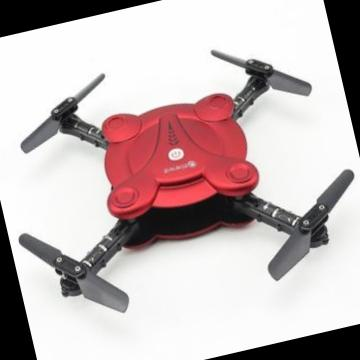drone: (0, 27, 360, 337)
